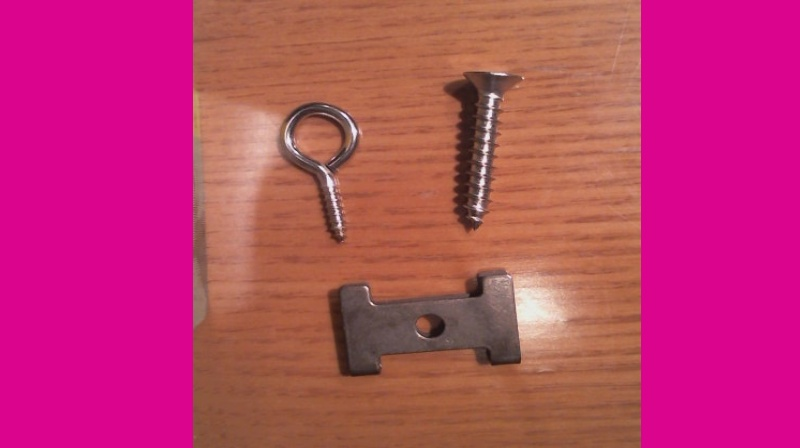O001: (272, 100, 366, 250)
O002: (330, 274, 526, 381)
S001: (452, 67, 526, 235)
